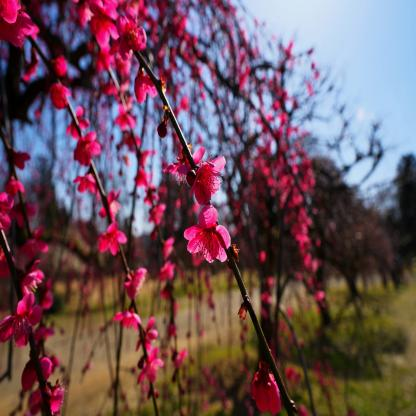Ume: (0, 0, 356, 416)
